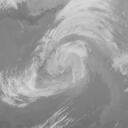cyclone: (28, 26, 92, 94)
